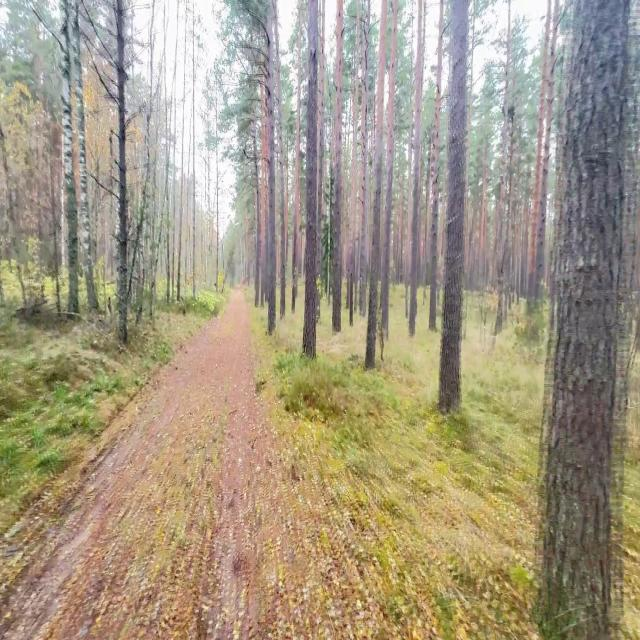trees: (539, 0, 639, 639), (365, 0, 387, 369), (72, 0, 98, 311), (381, 0, 398, 340), (61, 0, 79, 312), (535, 27, 556, 292), (303, 0, 318, 358), (0, 120, 26, 304), (409, 0, 423, 337), (429, 0, 443, 331), (498, 0, 511, 322), (115, 0, 127, 343), (275, 2, 286, 319), (346, 37, 358, 325), (332, 0, 342, 333), (266, 0, 275, 334), (351, 0, 359, 290), (135, 107, 150, 249), (292, 48, 300, 312), (50, 127, 61, 315), (164, 98, 173, 302), (177, 110, 184, 301), (192, 9, 196, 299), (215, 143, 219, 290)
